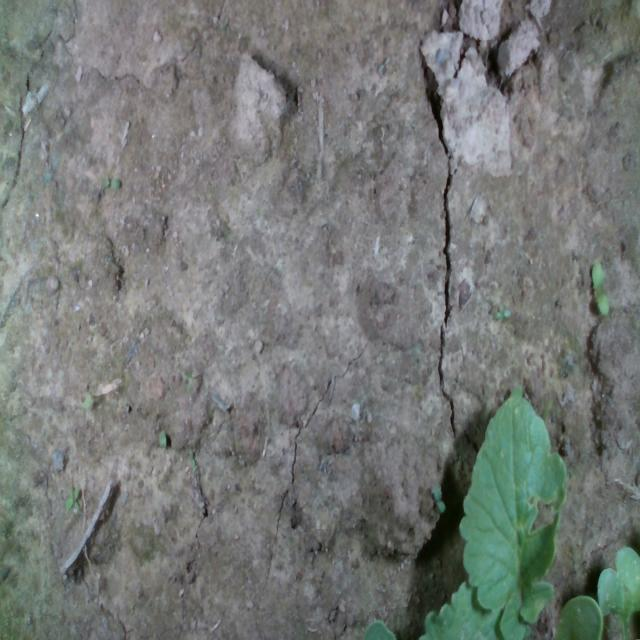weed: (590, 258, 609, 316), (491, 302, 511, 324), (100, 176, 122, 191)
